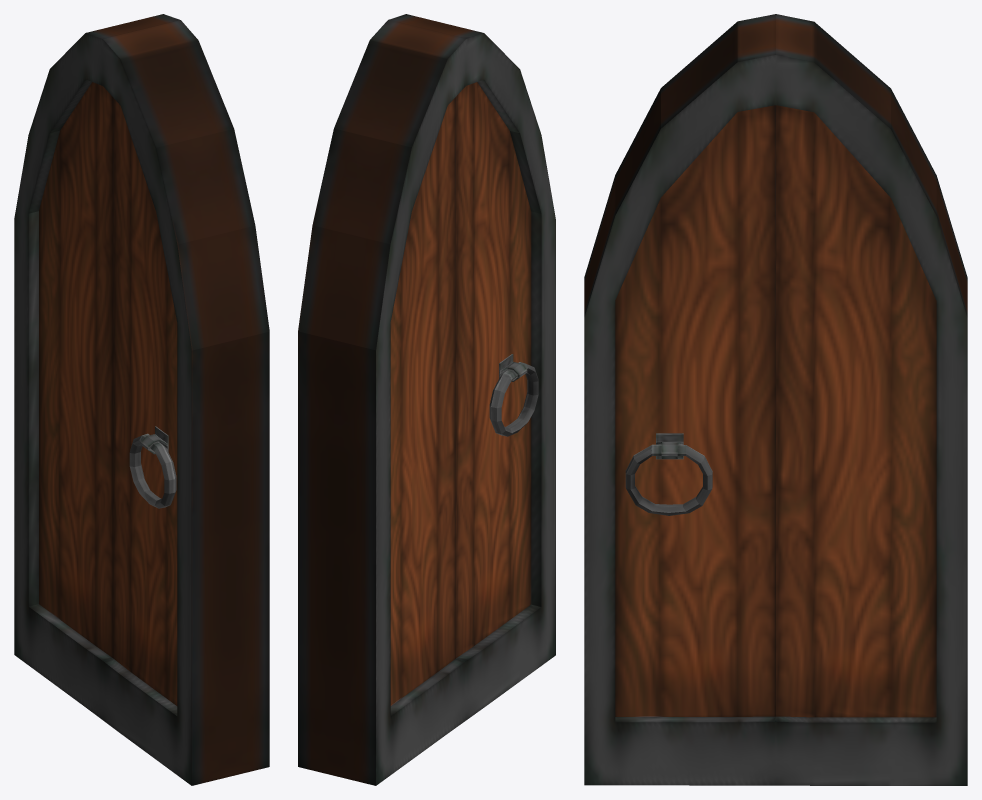
The model's file is door2.obj.
3 views of the same model, side by side, from view 1: azimuth 30°, elevation 25°; view 2: azimuth 150°, elevation 25°; view 3: azimuth 270°, elevation 25° (orthographic). The views are drawn at different scales.
Visible parts, largest first — view 1: Puerta_doble.001_Cube.023; view 2: Puerta_doble.001_Cube.023; view 3: Puerta_doble.001_Cube.023.
Boxes of the visible parts, x1,y1,x2,y2 form: Puerta_doble.001_Cube.023: (14, 14, 269, 785); Puerta_doble.001_Cube.023: (298, 14, 555, 785); Puerta_doble.001_Cube.023: (584, 14, 967, 785).
Bounding box in the file's own units: 0.3386 × 2.33 × 1.11.
